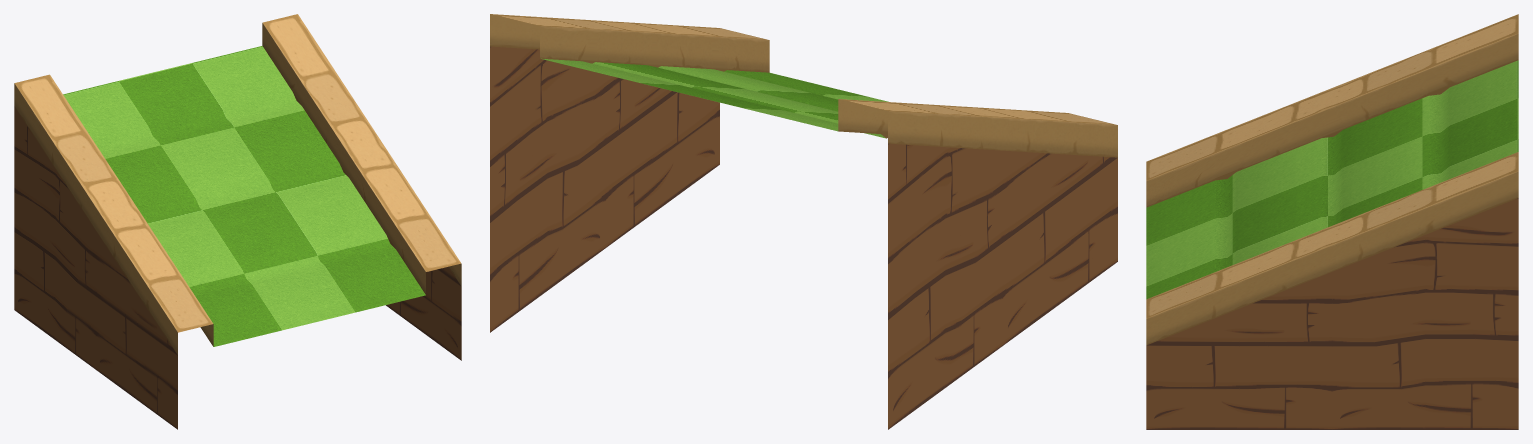
Rendered from tile15.FBX.
The picture shows the model from 3 angles, left to right: view 1: azimuth 30°, elevation 25°; view 2: azimuth 150°, elevation 25°; view 3: azimuth 270°, elevation 25°; orthographic projection. The views are drawn at different scales.
Visible parts, largest first — view 1: tile15_floor, tile15_walls; view 2: tile15_walls, tile15_floor; view 3: tile15_walls, tile15_floor.
Part boxes in pixels (x1,y1,x2,y2): tile15_floor: [63, 46, 425, 346]; tile15_walls: [14, 14, 461, 429]; tile15_walls: [490, 14, 1117, 429]; tile15_floor: [540, 58, 888, 138]; tile15_walls: [1146, 14, 1518, 429]; tile15_floor: [1146, 60, 1518, 299].
Bounding box in the file's own units: 1280 × 980 × 1280.
